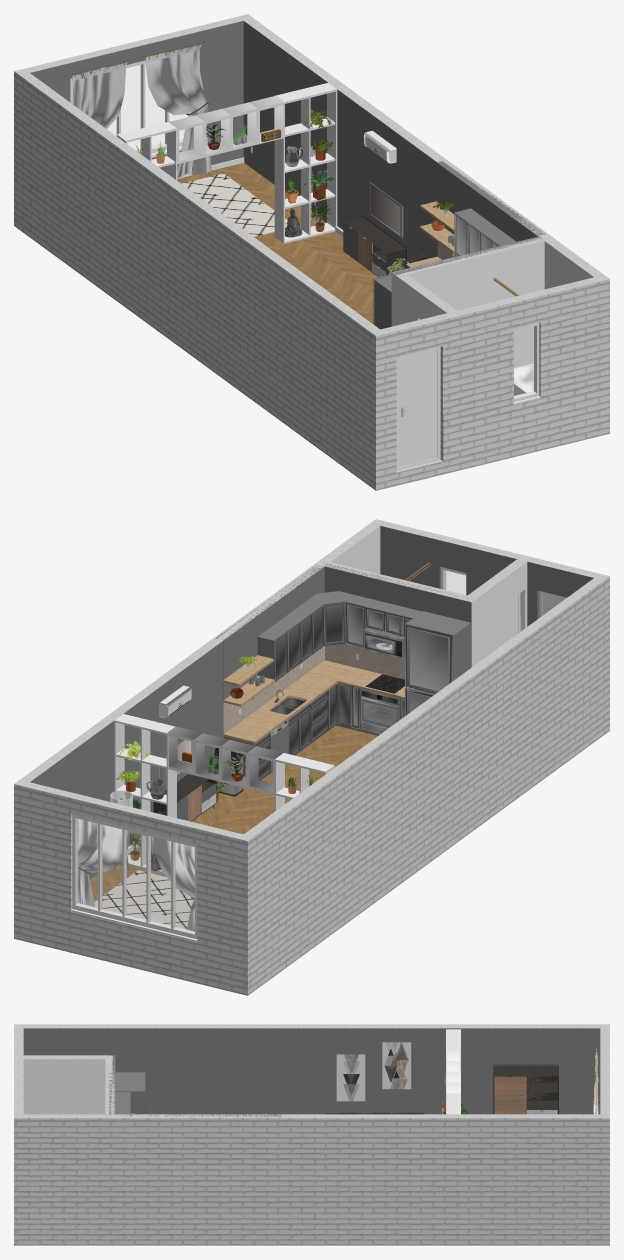
Rendered from apartment.glb.
3 renders of one model, top to bottom at view 1: azimuth 30°, elevation 25°; view 2: azimuth 150°, elevation 25°; view 3: azimuth 270°, elevation 25°, orthographic. The views are drawn at different scales.
Visible parts, largest first — view 1: Object_16, Object_49, Object_9, Object_23, Object_10, Object_71, Object_75, Object_48, Object_40, Object_47, Object_3, Object_14 (+5 smaller); view 2: Object_16, Object_49, Object_47, Object_9, Object_23, Object_40, Object_48, Object_71, Object_14, Object_12, Object_10, Object_72 (+6 smaller); view 3: Object_16, Object_49, Object_23, Object_10, Object_66, Object_75, Object_9, Object_7, Object_19, Object_47, Object_15, Object_48 (+1 smaller).
Boxes of the visible parts, left/top/right/bottom form: Object_16: left=14, top=71, right=609, bottom=490; Object_49: left=30, top=21, right=437, bottom=258; Object_9: left=72, top=44, right=540, bottom=404; Object_23: left=14, top=14, right=609, bottom=335; Object_10: left=391, top=241, right=593, bottom=367; Object_71: left=177, top=163, right=377, bottom=324; Object_75: left=396, top=347, right=440, bottom=470; Object_48: left=392, top=161, right=545, bottom=274; Object_40: left=107, top=65, right=534, bottom=396; Object_47: left=186, top=103, right=516, bottom=329; Object_3: left=181, top=173, right=287, bottom=236; Object_14: left=64, top=41, right=519, bottom=296; Object_16: left=14, top=576, right=609, bottom=995; Object_49: left=30, top=526, right=593, bottom=879; Object_47: left=78, top=591, right=471, bottom=899; Object_9: left=78, top=567, right=466, bottom=931; Object_23: left=14, top=519, right=609, bottom=840; Object_40: left=77, top=571, right=465, bottom=931; Object_48: left=215, top=564, right=472, bottom=764; Object_71: left=90, top=725, right=377, bottom=901; Object_14: left=222, top=562, right=431, bottom=743; Object_12: left=71, top=814, right=197, bottom=942; Object_10: left=331, top=526, right=527, bottom=667; Object_72: left=223, top=643, right=471, bottom=733; Object_16: left=14, top=1118, right=609, bottom=1245; Object_49: left=23, top=1028, right=600, bottom=1114; Object_23: left=14, top=1024, right=609, bottom=1118; Object_10: left=23, top=1059, right=105, bottom=1114; Object_66: left=493, top=1064, right=558, bottom=1114; Object_75: left=27, top=1081, right=71, bottom=1114; Object_9: left=446, top=1029, right=598, bottom=1114; Object_7: left=382, top=1042, right=411, bottom=1089; Object_19: left=336, top=1054, right=365, bottom=1101; Object_47: left=115, top=1071, right=599, bottom=1114; Object_15: left=494, top=1076, right=526, bottom=1114; Object_48: left=109, top=1055, right=281, bottom=1117.
Bounding box in the file's own units: 4.67 × 2.95 × 12.51.
90 materials, 61 textured.
